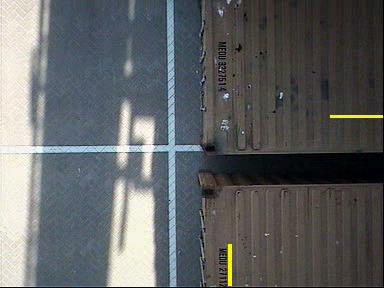groundmarker_2: (98, 39, 158, 76), (100, 213, 160, 250)
